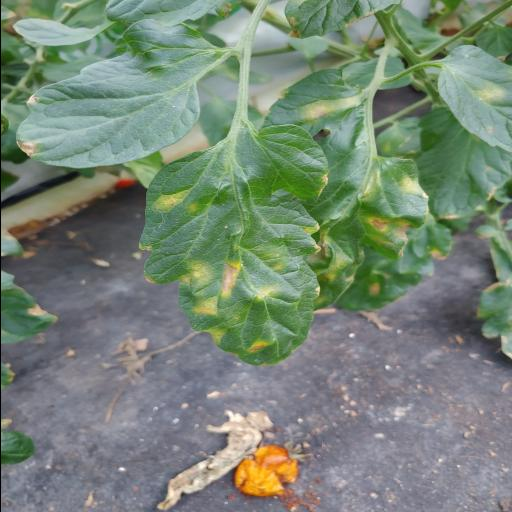Leaf Mold: (138, 126, 330, 366), (256, 75, 428, 312), (436, 46, 512, 153)
